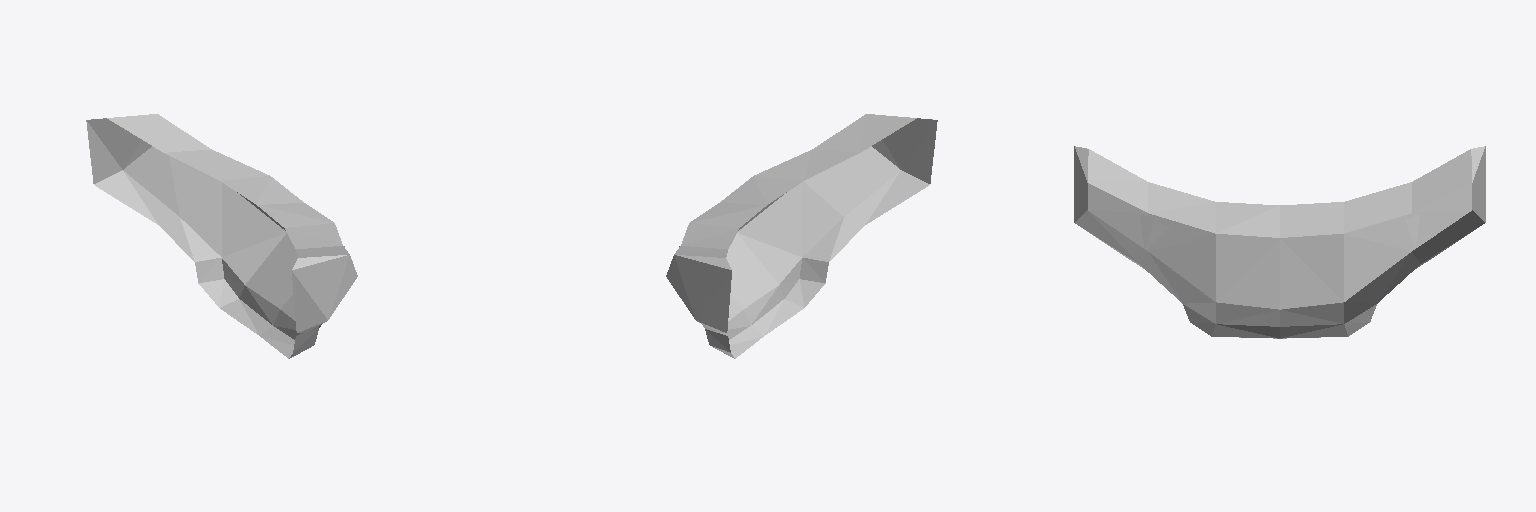
Rendered from Scout Stomach MALE.obj.
3 views of the same model, side by side, from view 1: azimuth 30°, elevation 25°; view 2: azimuth 150°, elevation 25°; view 3: azimuth 270°, elevation 25° (orthographic).
Parts seen in each view (by area): view 1: armor_torso_scout; view 2: armor_torso_scout; view 3: armor_torso_scout.
Part boxes in pixels (left/top/right/bottom): armor_torso_scout: left=86, top=114, right=357, bottom=358; armor_torso_scout: left=666, top=114, right=937, bottom=358; armor_torso_scout: left=1074, top=146, right=1485, bottom=338.
Size of the model in its own units: 2.54 by 2.93 by 6.75.